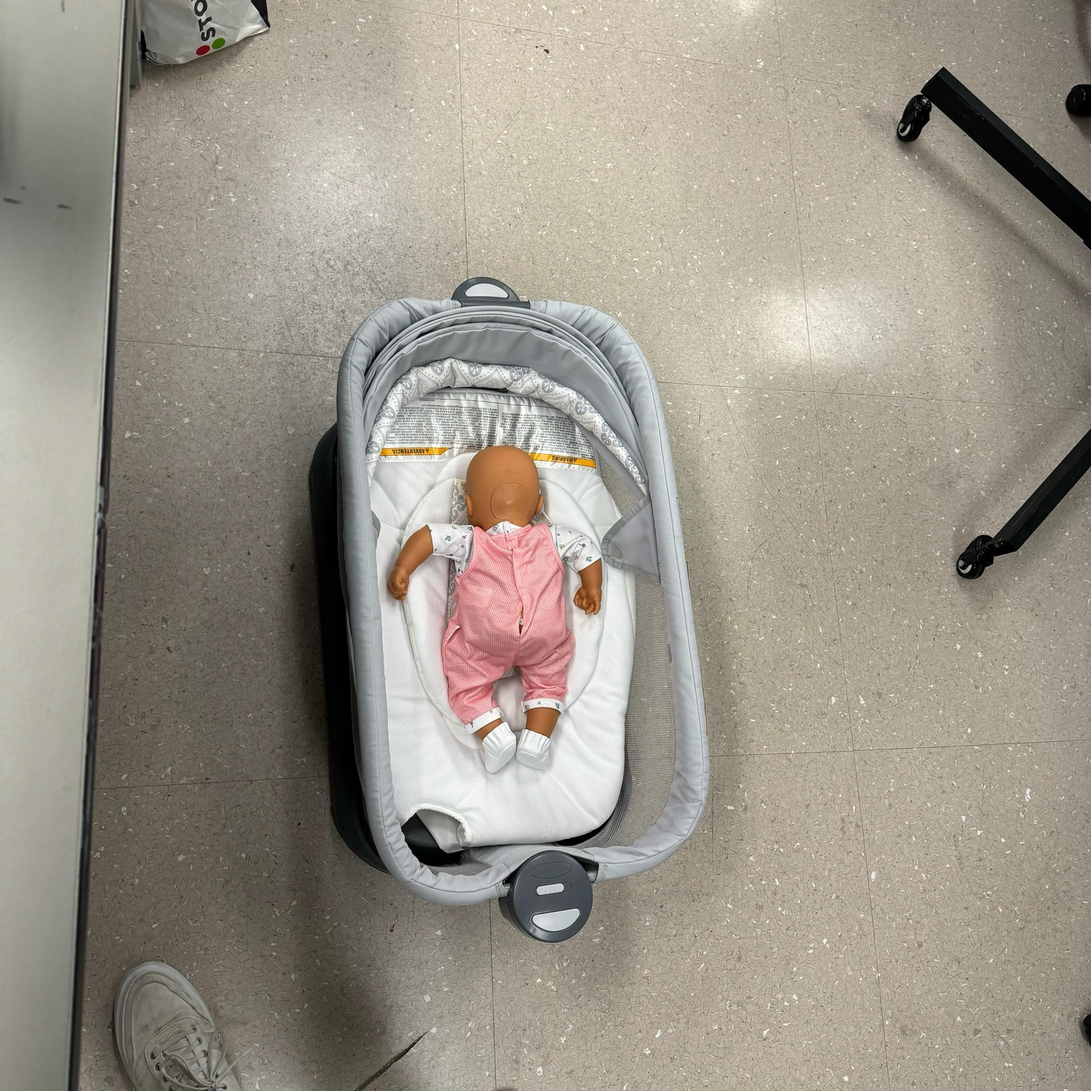baby: (374, 429, 613, 789)
